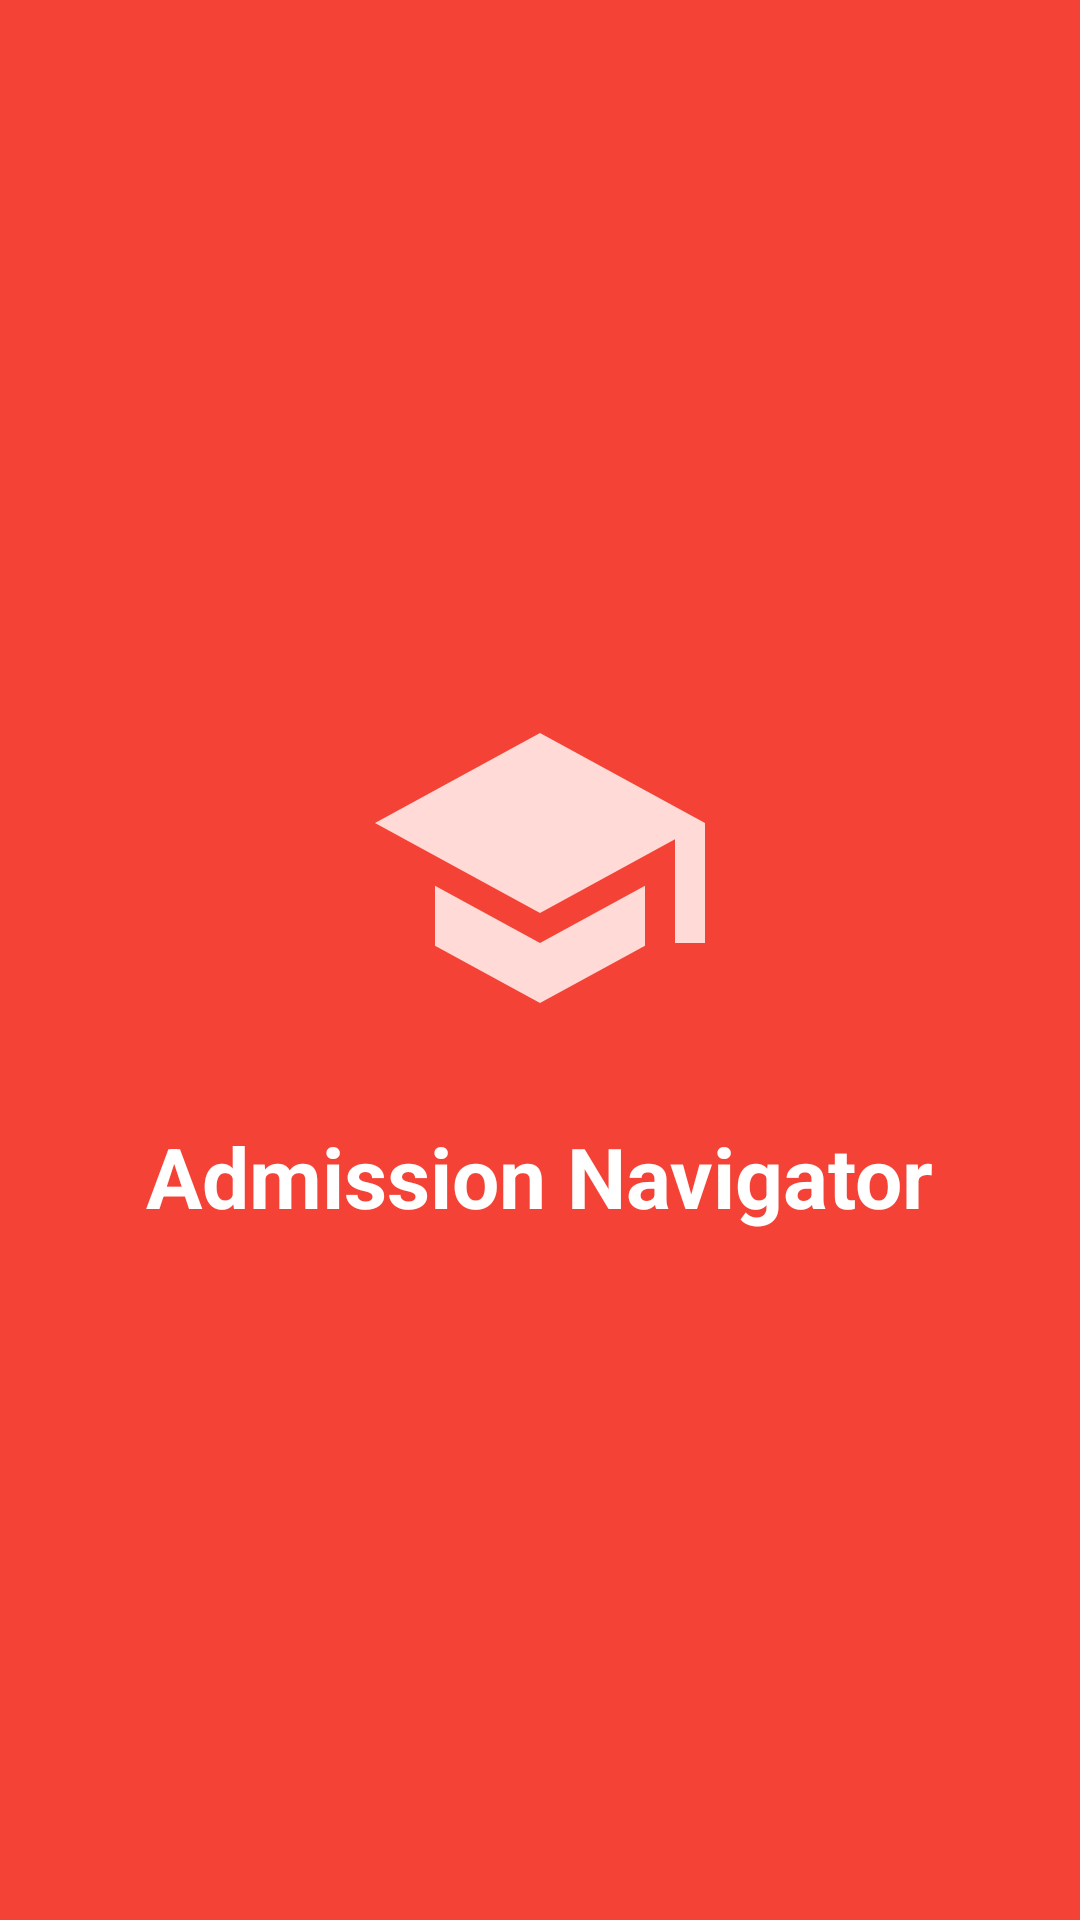

Icons on this 1080*1920 Android screen, each with its box as (x1=x1, y1=y1, x2=x2, y2=y2):
school: (x1=375, y1=733, x2=705, y2=1003)
